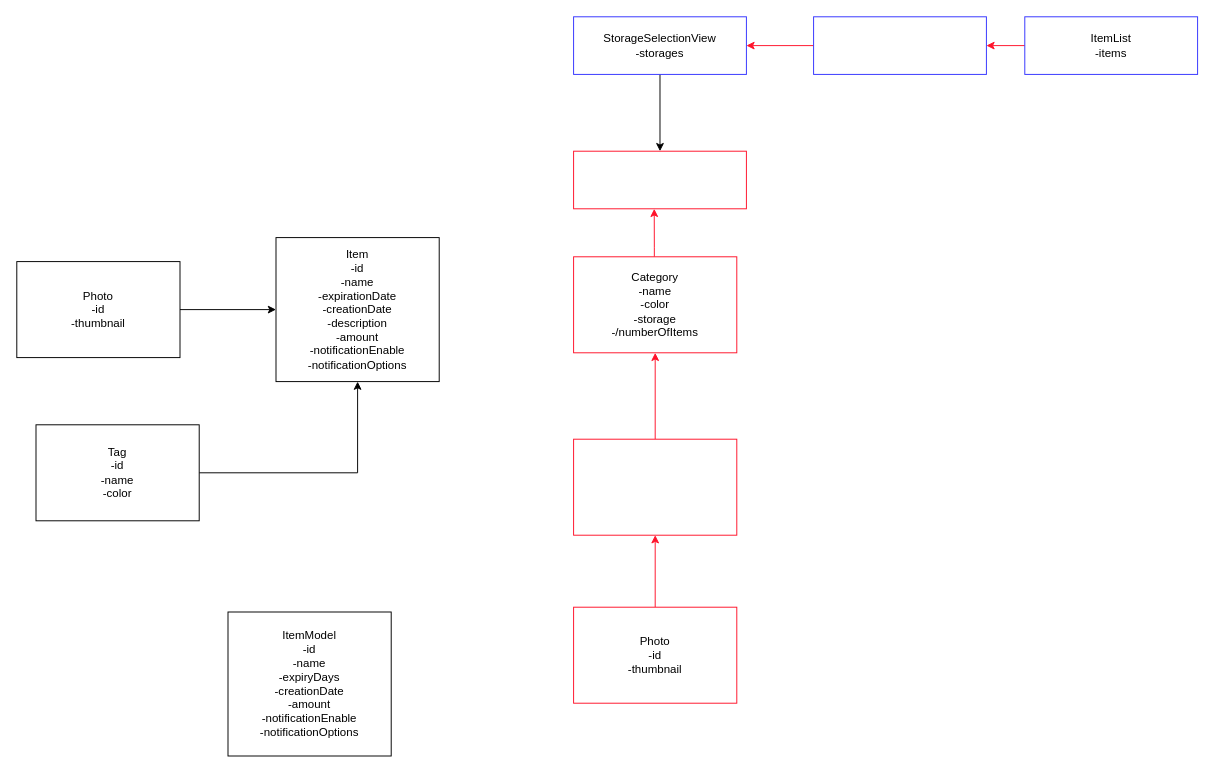
This 1214x773 diagram has some shape labels left out. The shapes that lost their labels are listed below. From the top down, each one's centre as x and y in pixels, then its label:
At pixel 899 45: "CategoryList -categories".
At pixel 659 179: "Storage -name -color -/numberOfItemCategories".
At pixel 655 486: "Item -name -expirationDate -creationDate -category -photo".
